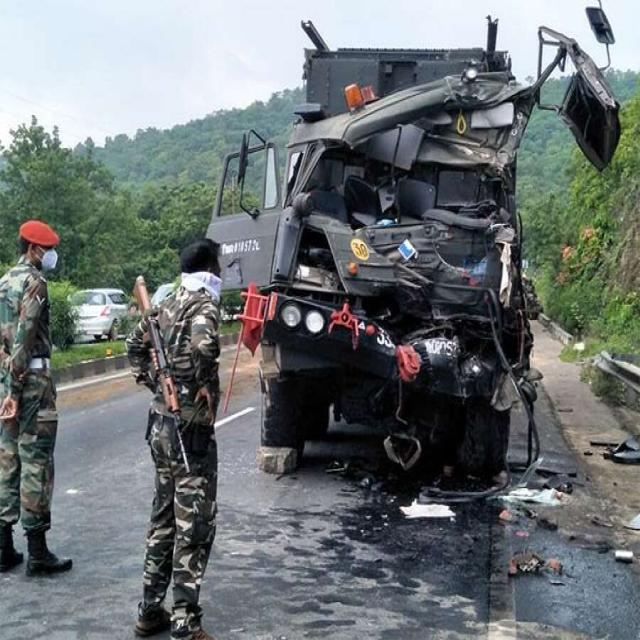accident: (208, 20, 620, 477), (589, 7, 612, 44)
